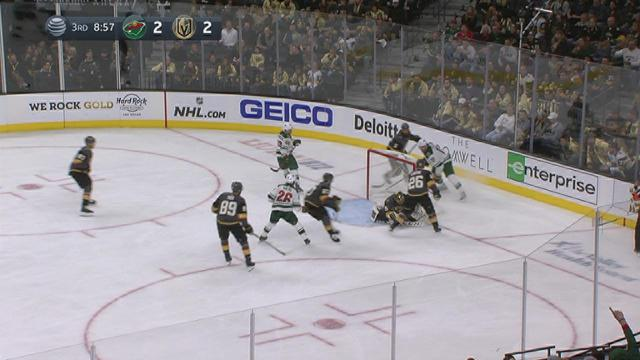geico: (239, 97, 338, 131)
